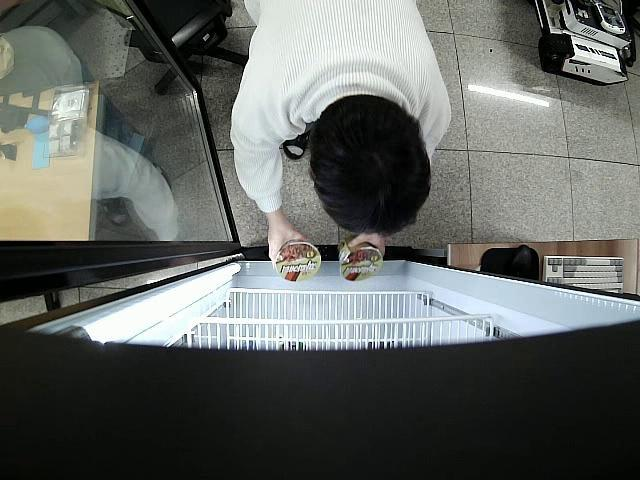03_chapagetti_L: (336, 235, 382, 282), (274, 238, 320, 284)
